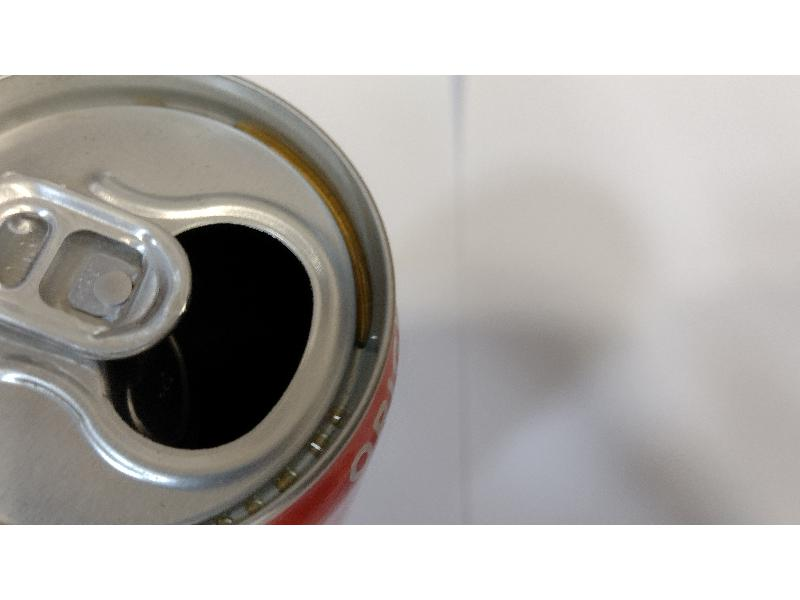can: (1, 72, 406, 523)
